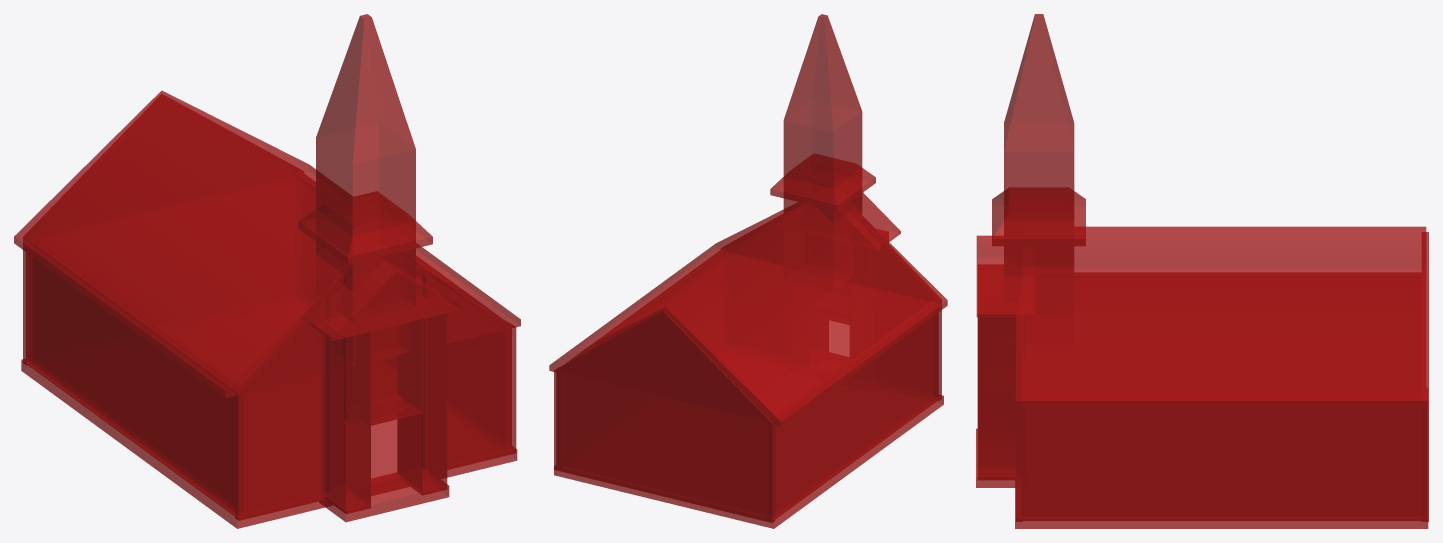
File: SM_Bld_Church_01_COLLISION.fbx
3 renders of one model, left to right at view 1: azimuth 30°, elevation 25°; view 2: azimuth 150°, elevation 25°; view 3: azimuth 270°, elevation 25°, orthographic. The views are drawn at different scales.
Parts seen in each view (by area): view 1: SM_Bld_Church_01_COLLISION; view 2: SM_Bld_Church_01_COLLISION; view 3: SM_Bld_Church_01_COLLISION.
Part boxes in pixels (x1,y1,x2,y2): SM_Bld_Church_01_COLLISION: (14,14,520,528); SM_Bld_Church_01_COLLISION: (549,14,947,528); SM_Bld_Church_01_COLLISION: (976,14,1428,528).
Bounding box in the file's own units: 1019 × 1546 × 1415.
